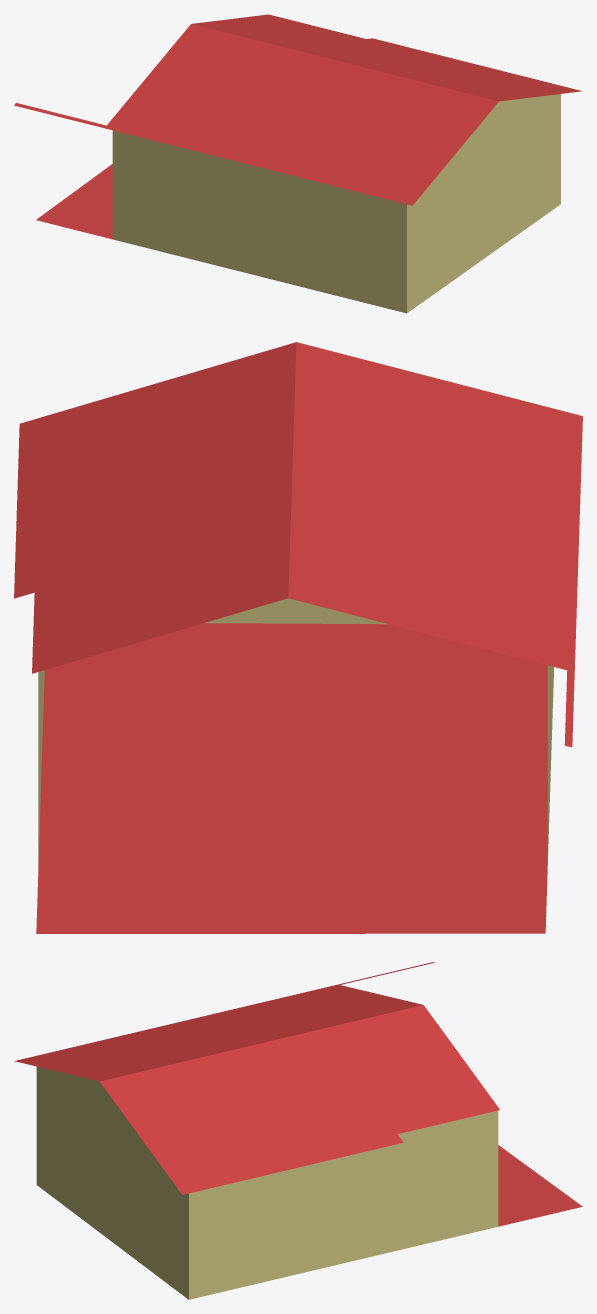
3 renders of one model, top to bottom at view 1: azimuth 30°, elevation 25°; view 2: azimuth 150°, elevation 25°; view 3: azimuth 270°, elevation 25°, orthographic. The views are drawn at different scales.
Bounding box in the file's own units: 24.21 × 25.72 × 8.25.
